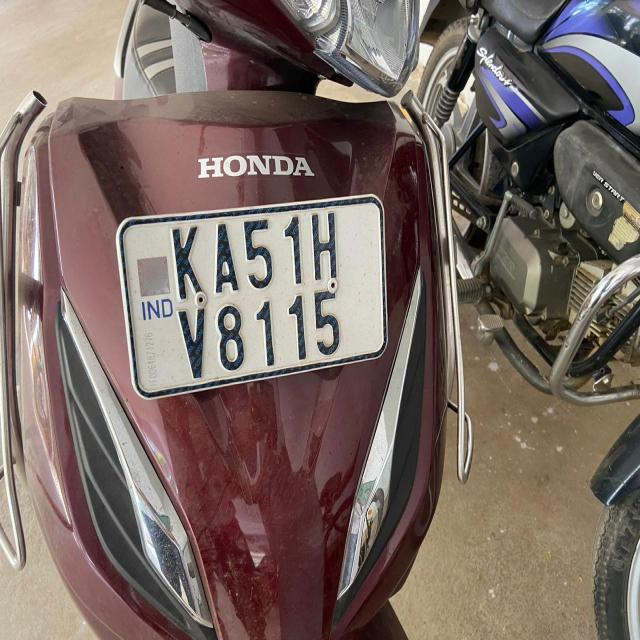1: (254, 290, 285, 372), (280, 214, 309, 289), (286, 291, 310, 368)
5: (239, 212, 276, 282), (311, 287, 344, 364)
8: (215, 295, 248, 373)
A: (208, 218, 243, 301)
H: (307, 204, 344, 287)
K: (161, 220, 210, 306)
V: (174, 303, 208, 389)
